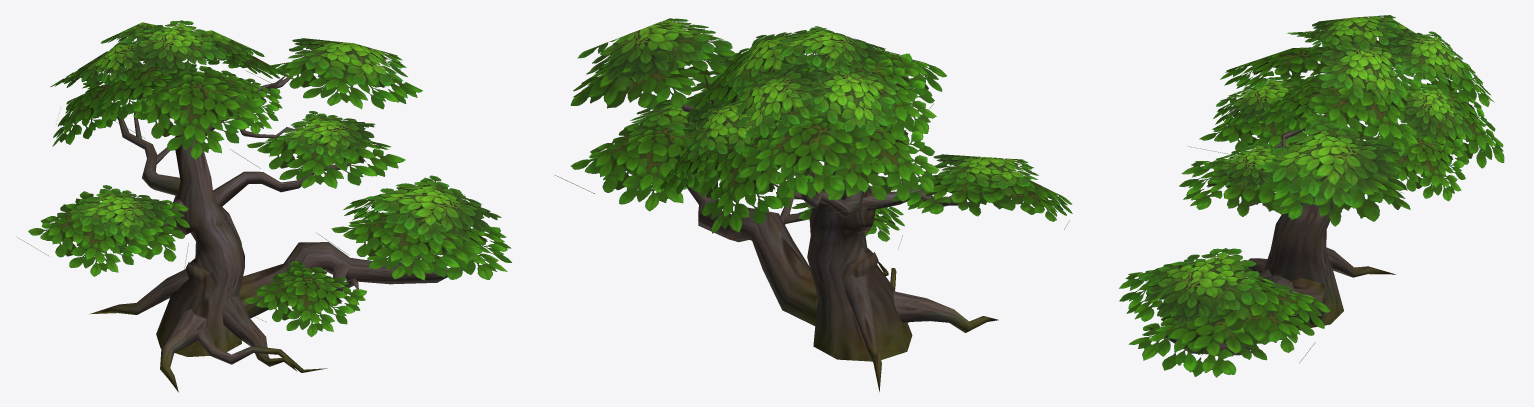
File: FB1_shu01_001.FBX
3 renders of one model, left to right at view 1: azimuth 30°, elevation 25°; view 2: azimuth 150°, elevation 25°; view 3: azimuth 270°, elevation 25°, orthographic. The views are drawn at different scales.
Visible parts, largest first — view 1: DABO_DLD_shu_101; view 2: DABO_DLD_shu_101; view 3: DABO_DLD_shu_101.
Boxes of the visible parts, bbox=[...] form: DABO_DLD_shu_101: bbox=[18, 20, 511, 392]; DABO_DLD_shu_101: bbox=[555, 18, 1072, 391]; DABO_DLD_shu_101: bbox=[1119, 15, 1504, 377].
Bounding box in the file's own units: 419298 × 246437 × 310603.
Materials: 1 (1 with a texture image).
